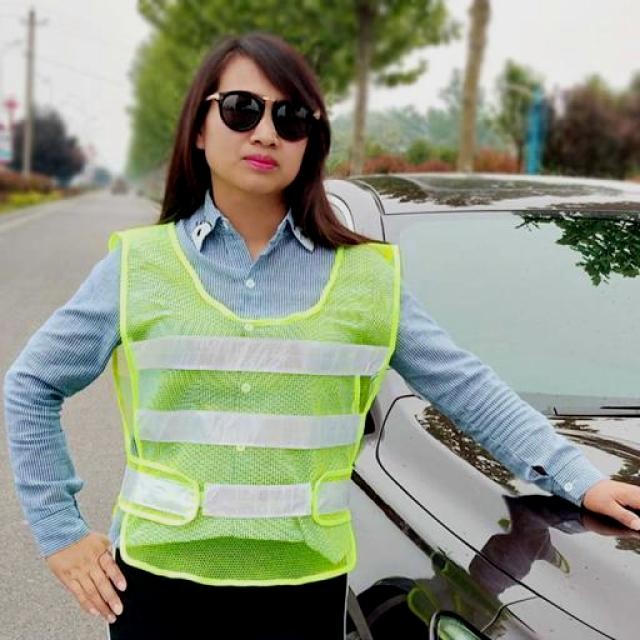face_nomask: (210, 84, 314, 178)
glasses: (210, 86, 325, 145)
hand_noglove: (38, 524, 128, 626)
head_nohelmet: (185, 28, 327, 90)
person: (3, 29, 449, 640)
vest: (109, 214, 403, 588)
